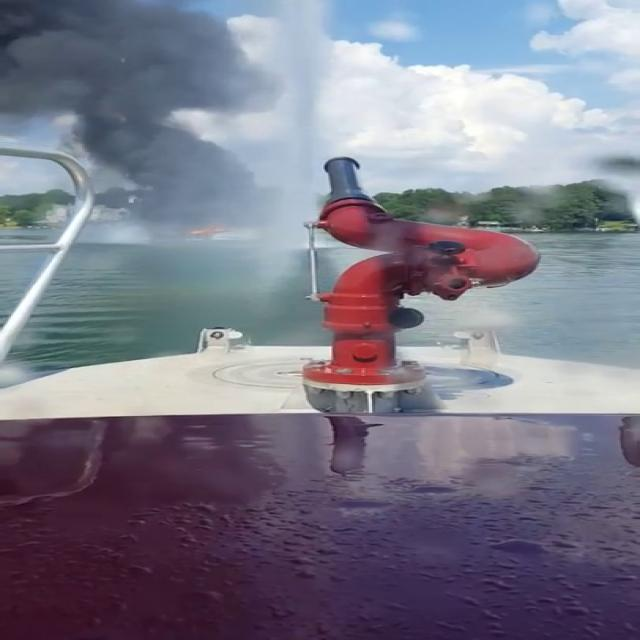Smoke: (1, 0, 268, 246)
